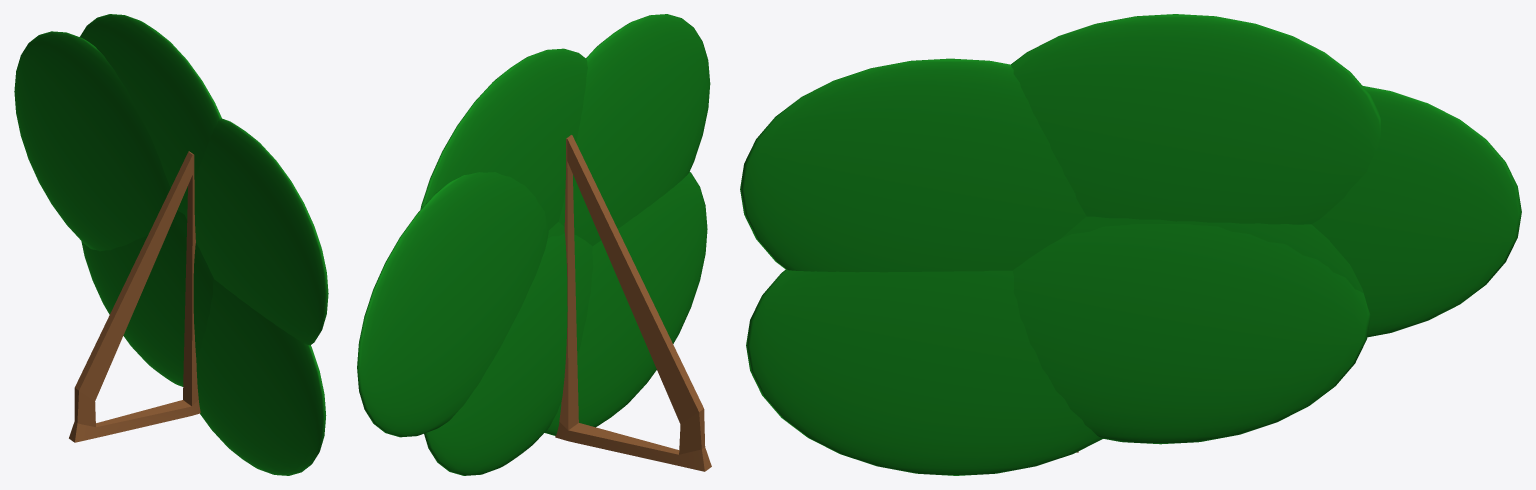
Rendered from Bushes_Board.FBX.
The picture shows the model from 3 angles, left to right: view 1: azimuth 30°, elevation 25°; view 2: azimuth 150°, elevation 25°; view 3: azimuth 270°, elevation 25°; orthographic projection. The views are drawn at different scales.
Visible parts, largest first — view 1: Sphere006, Sphere003, Sphere001, Sphere004, Back_Stand001, Sphere002; view 2: Sphere006, Sphere003, Sphere001, Sphere002, Sphere004, Back_Stand001; view 3: Sphere004, Sphere002, Sphere003, Sphere001, Sphere006, Sphere005.
Part boxes in pixels (box(x1,y1,x2,y2)): Sphere006: box(14, 31, 170, 251); Sphere003: box(185, 118, 328, 345); Sphere001: box(196, 279, 326, 475); Sphere004: box(80, 14, 221, 214); Back_Stand001: box(69, 151, 200, 442); Sphere002: box(81, 216, 213, 386); Sphere006: box(357, 172, 548, 437); Sphere003: box(558, 14, 710, 246); Sphere001: box(544, 172, 707, 435); Sphere002: box(424, 233, 593, 475); Sphere004: box(420, 48, 587, 230); Back_Stand001: box(555, 135, 711, 471); Sphere004: box(1010, 14, 1380, 224); Sphere002: box(1013, 224, 1370, 444); Sphere003: box(740, 58, 1086, 272); Sphere001: box(746, 269, 1102, 475); Sphere006: box(1312, 86, 1521, 337); Sphere005: box(1061, 216, 1363, 292).
Bounding box in the file's own units: 22.24 × 56.19 × 86.19.
